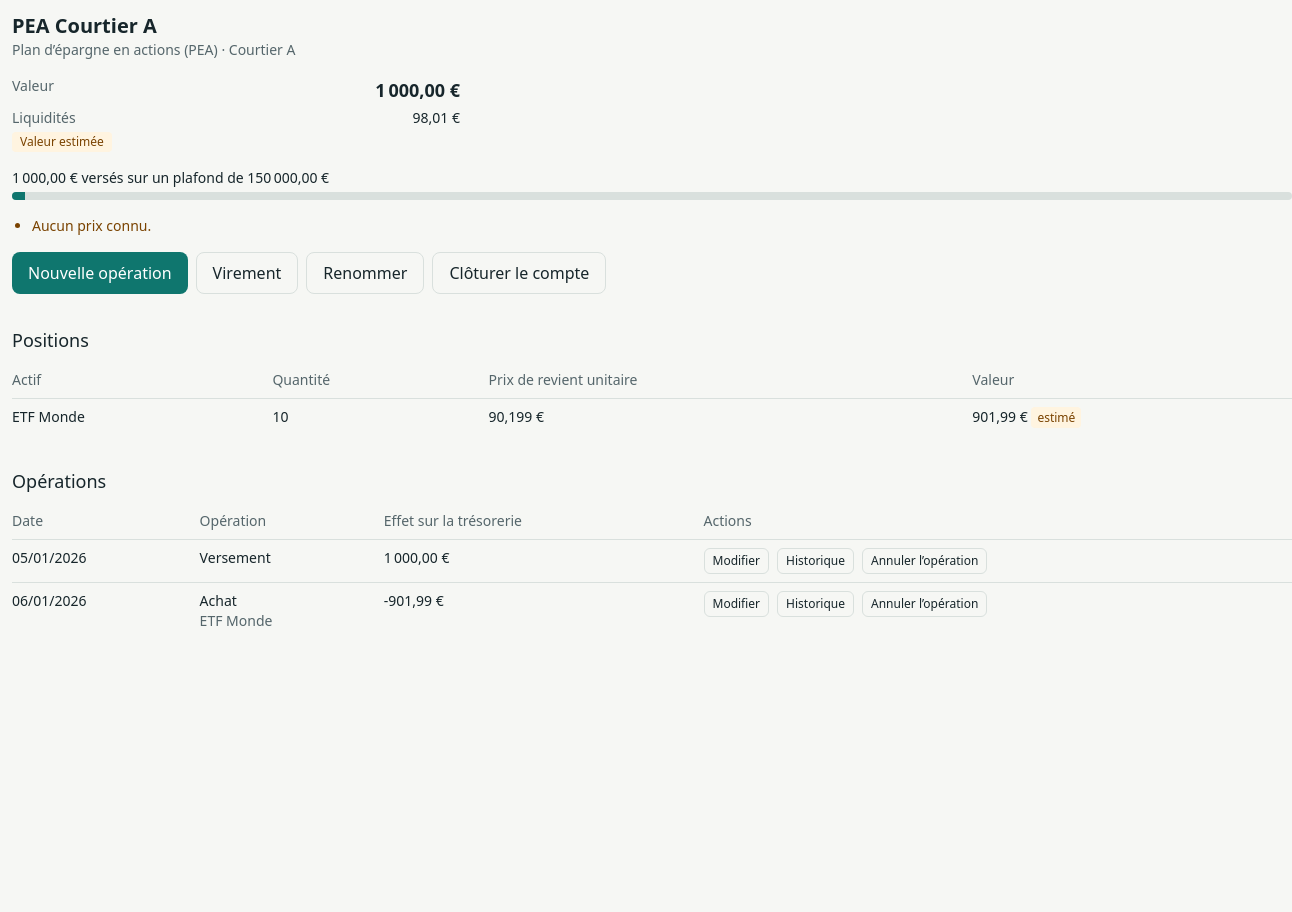
Scenario: opérations › affiche l’historique des modifications
This screenshot has width=1292, height=912.
Click the button "Historique" in the row of "05/01/2026" at x=816, y=561, box [777,548,854,574]
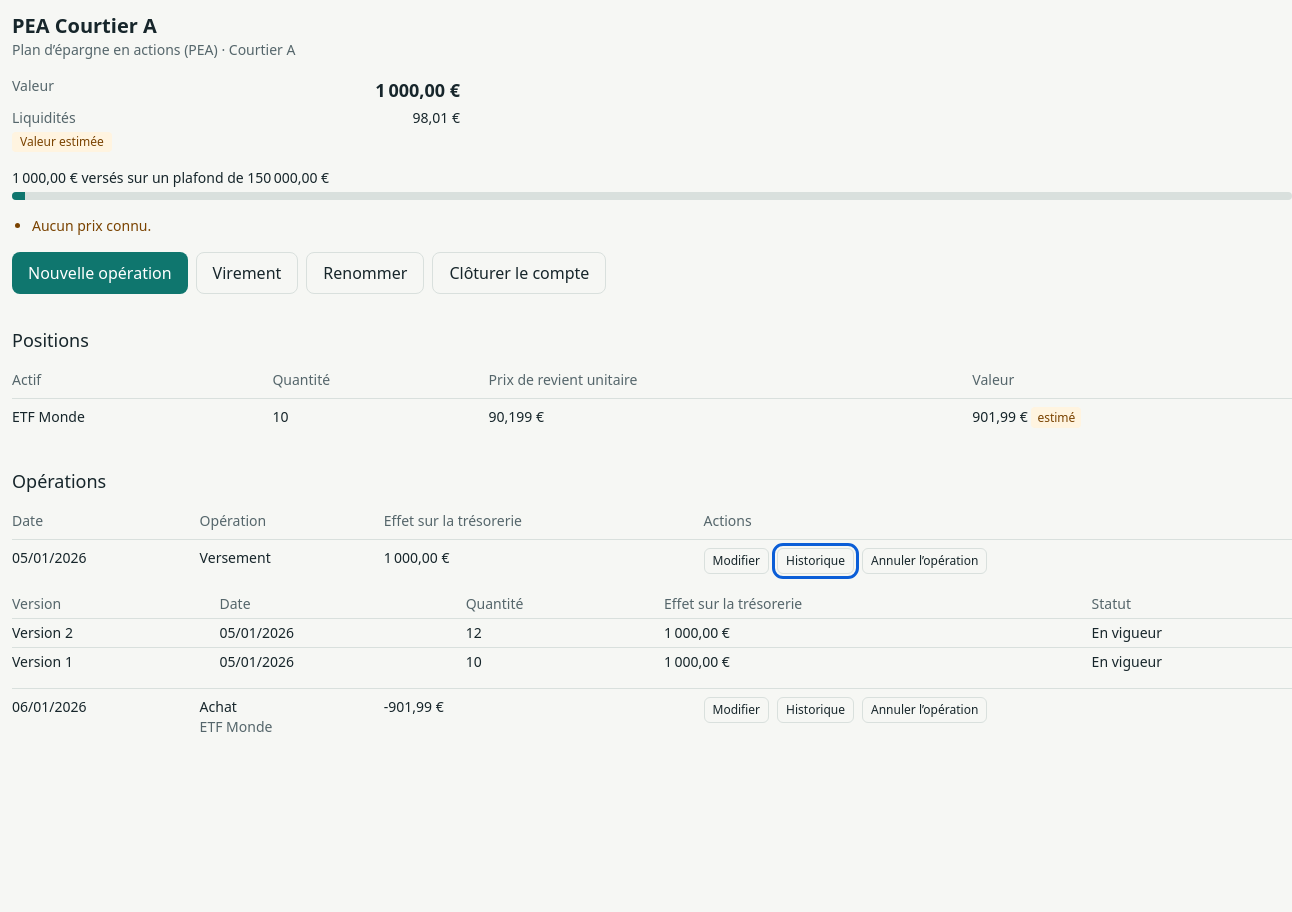
Check: the table named "Historique des modifications" is shown, box [12,590,1291,676]
